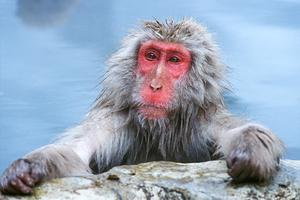monkey: (0, 17, 287, 197)
